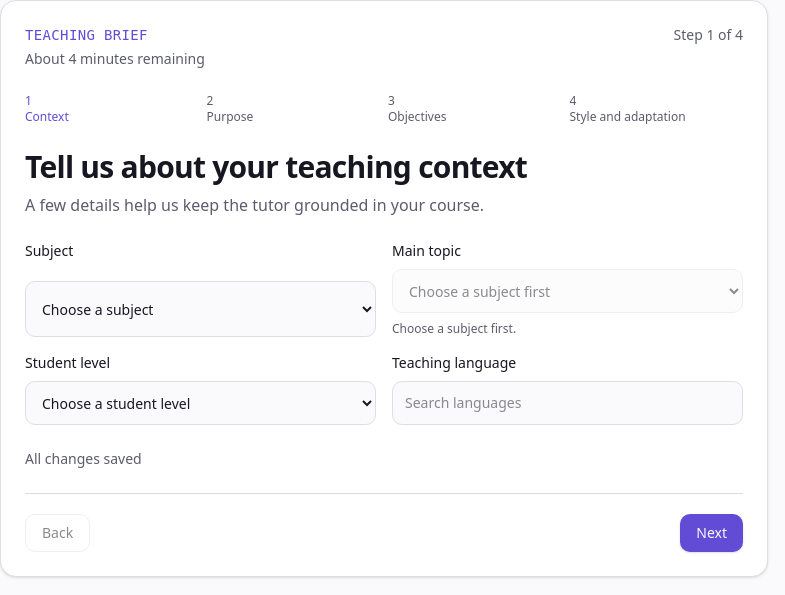
TeachingBriefWizard › autosaves a valid change and announces its saved state
The width and height of the screenshot is (785, 595).
Select "Mathematics" in the dropdown labelled "Subject" at {"x": 200, "y": 309}, box [25, 281, 376, 337]
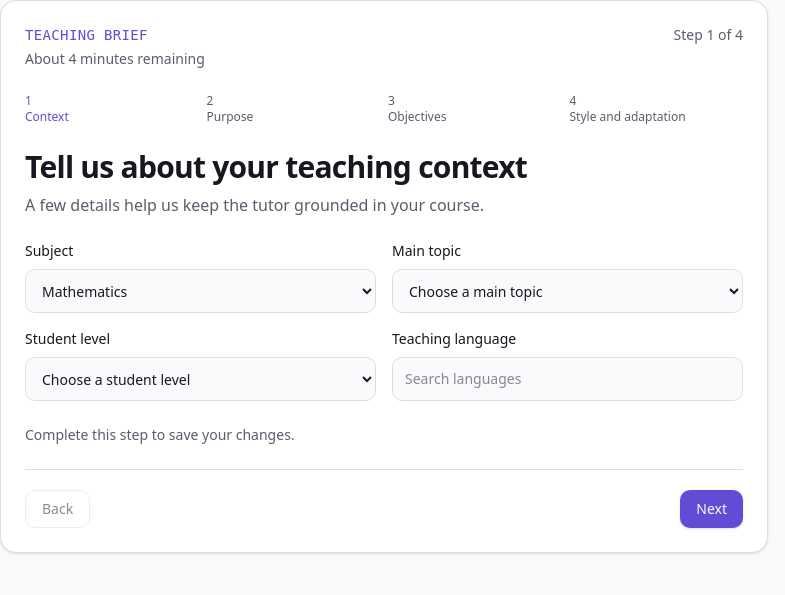
Select "Statistics and probability" in the dropdown labelled "Main topic" at {"x": 568, "y": 291}, box [392, 269, 743, 313]
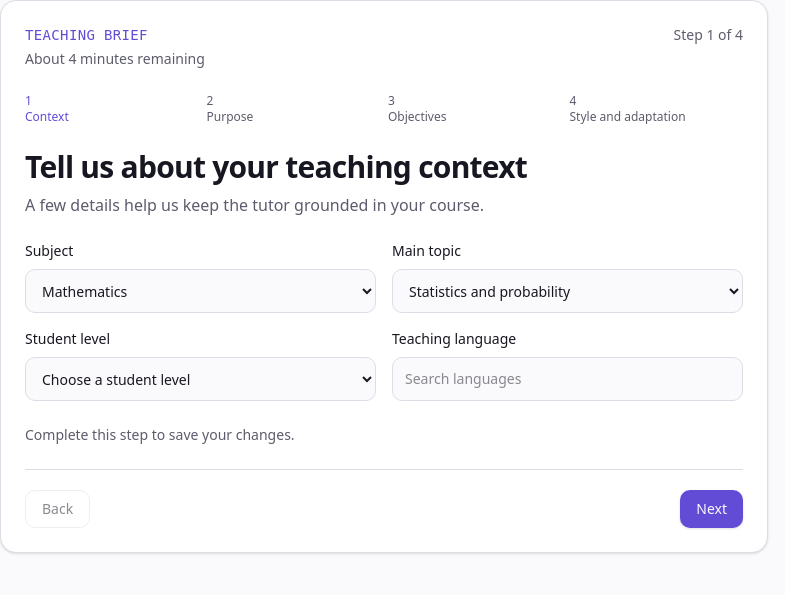
Select "Undergraduate" in the dropdown labelled "Student level" at {"x": 200, "y": 379}, box [25, 357, 376, 401]
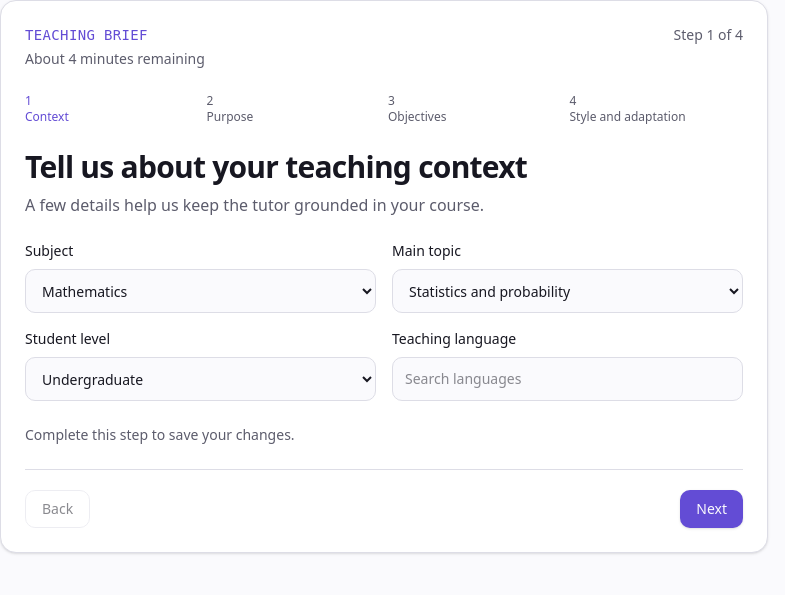
Type "English" into the dropdown labelled "Teaching language" at {"x": 568, "y": 379}, box [392, 357, 743, 401]
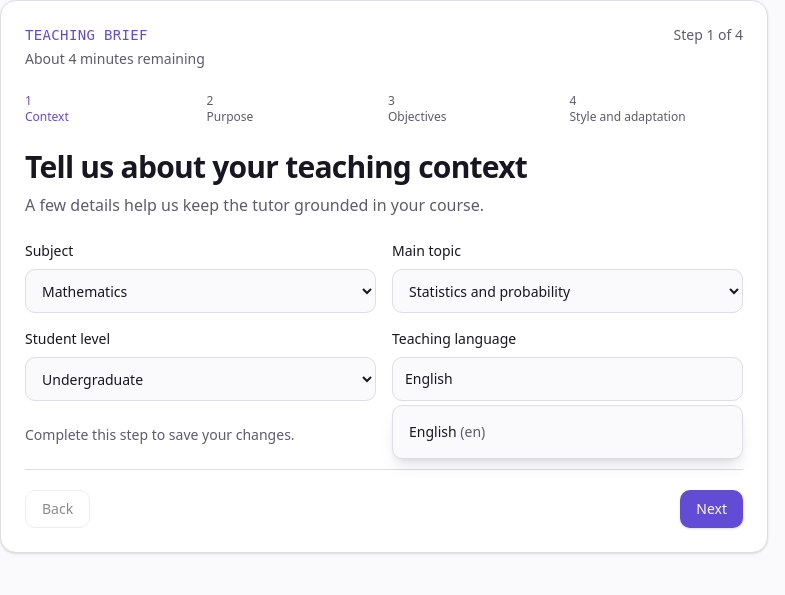
Click the button "English (en)" at {"x": 433, "y": 432}, box [397, 410, 738, 454]
Wait 600 ms
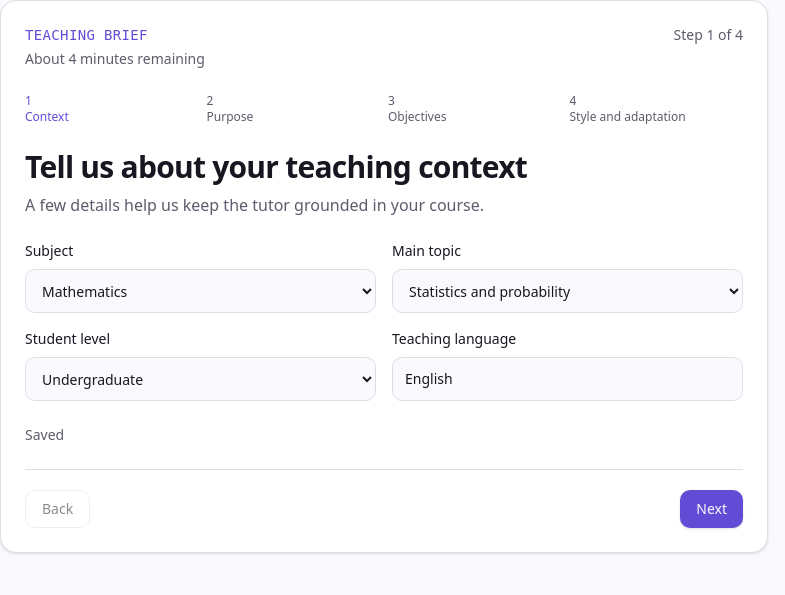
Check: the message reads "Saved", box [25, 425, 64, 444]
